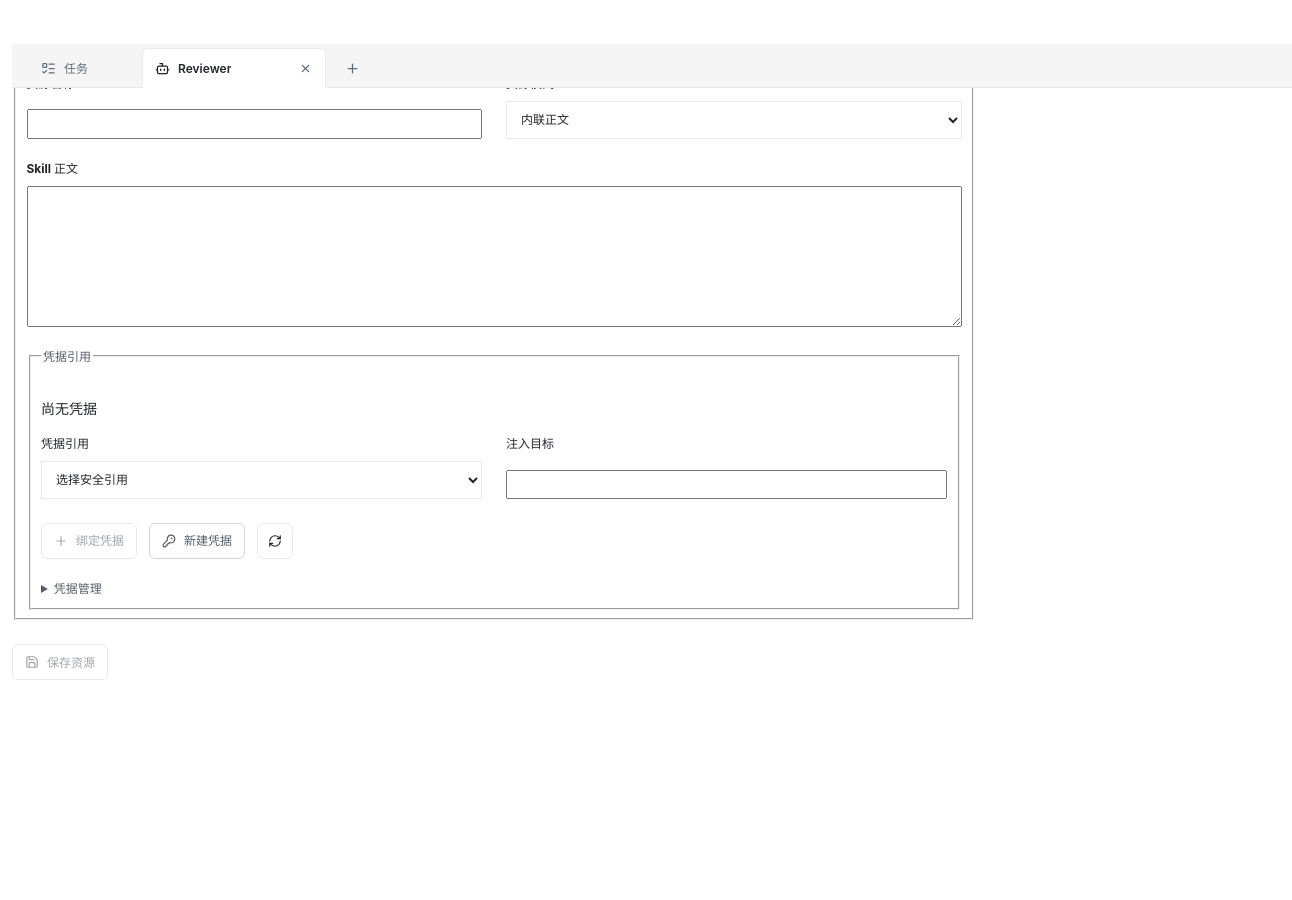
Scenario: typed independent capability resource edits › saves skill inline using exact finite settings without fetching the external source
This screenshot has width=1292, height=900.
Type "Reviewed resource" into the field labelled "资源名称" at (254, 124), box [26,109,482,139]
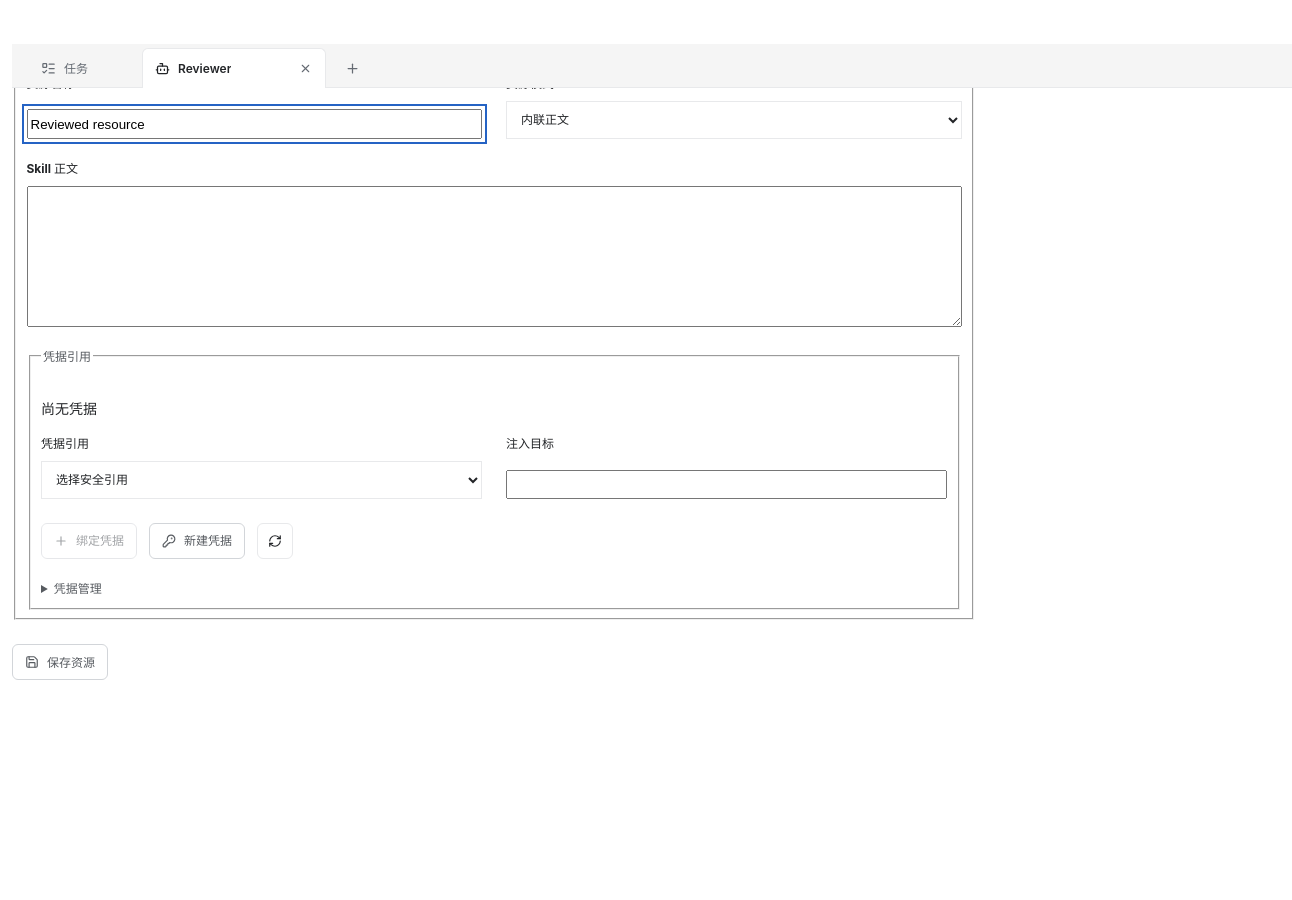
Select "内联正文" in the dropdown labelled "资源模式" at (734, 120), box [506,101,962,139]
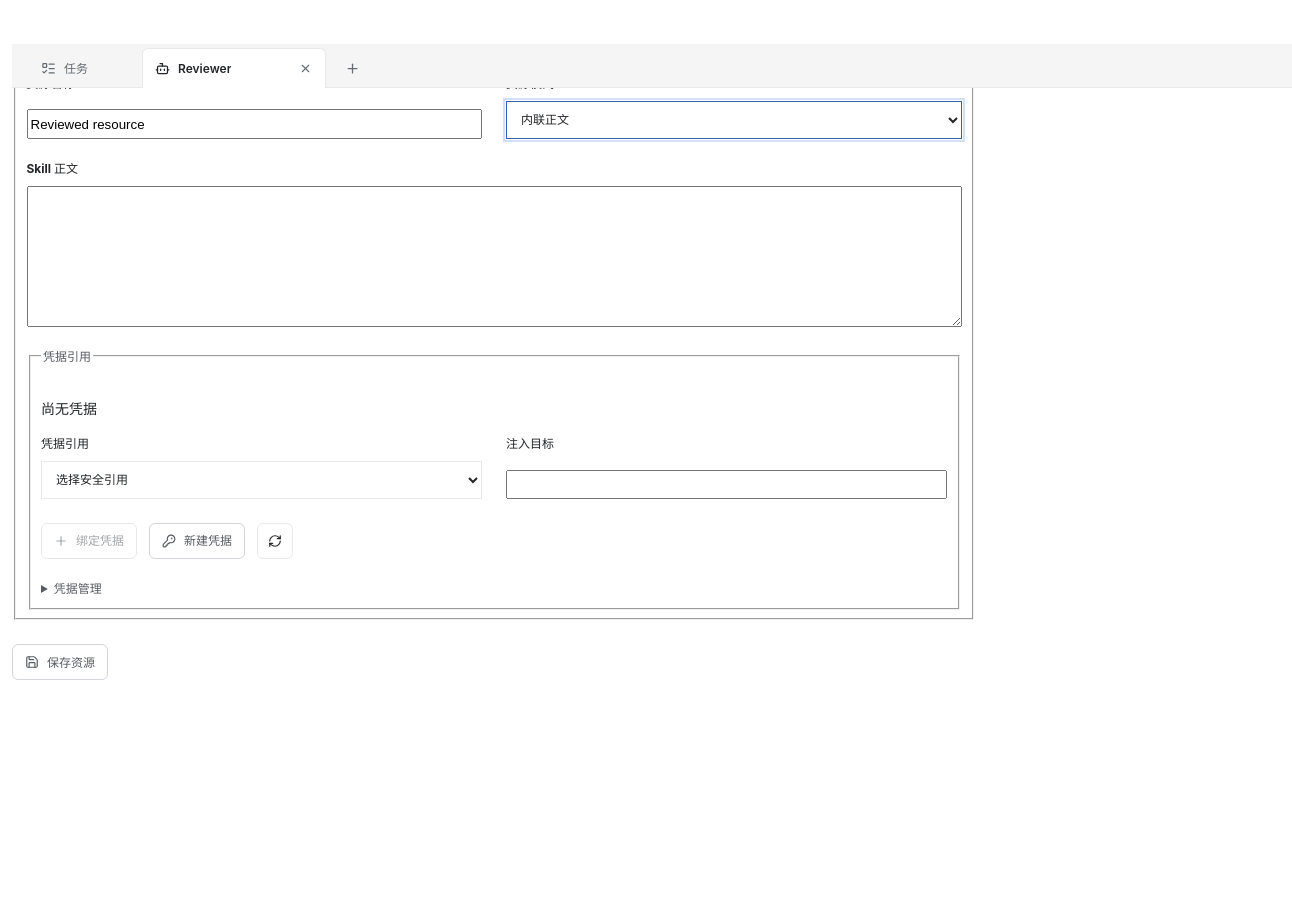
Type "Reviewed inline body" into the text box labelled "Skill 正文" at (494, 256), box [26,186,962,327]
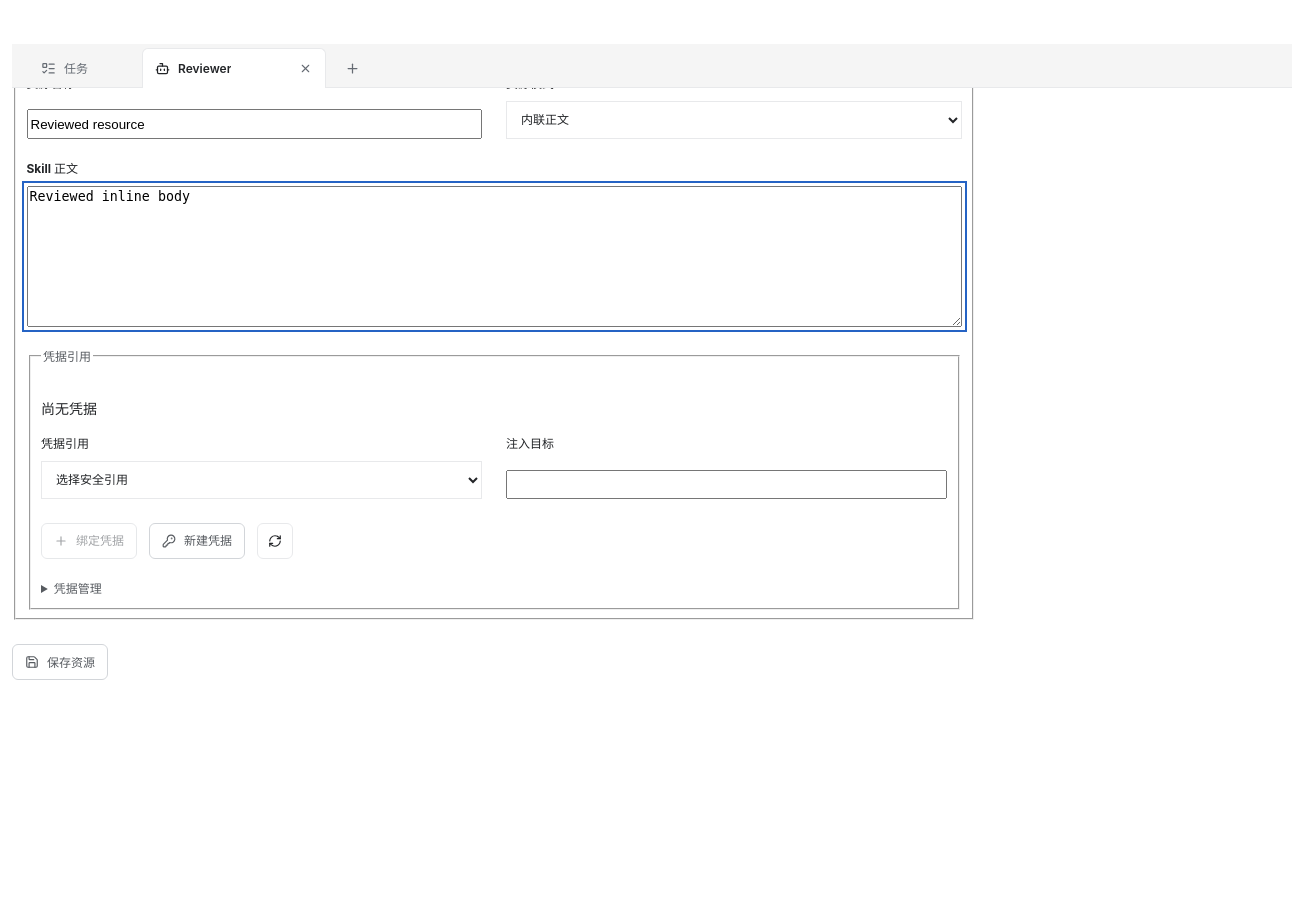
Click the button "保存资源" at (60, 662), box [12,644,108,680]
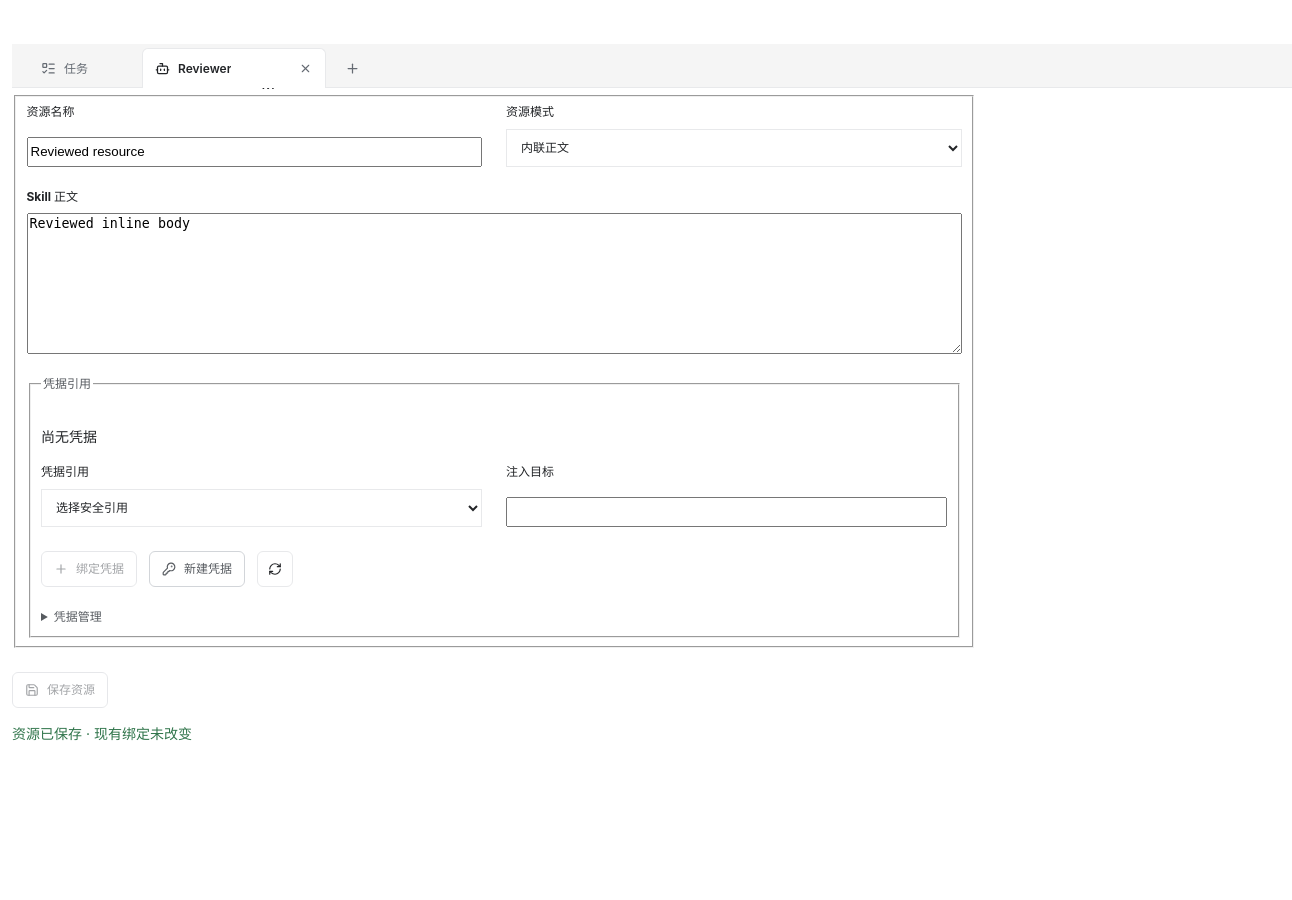
Now the text "资源已保存 · 现有绑定未改变" is shown, box [12,725,192,742]
